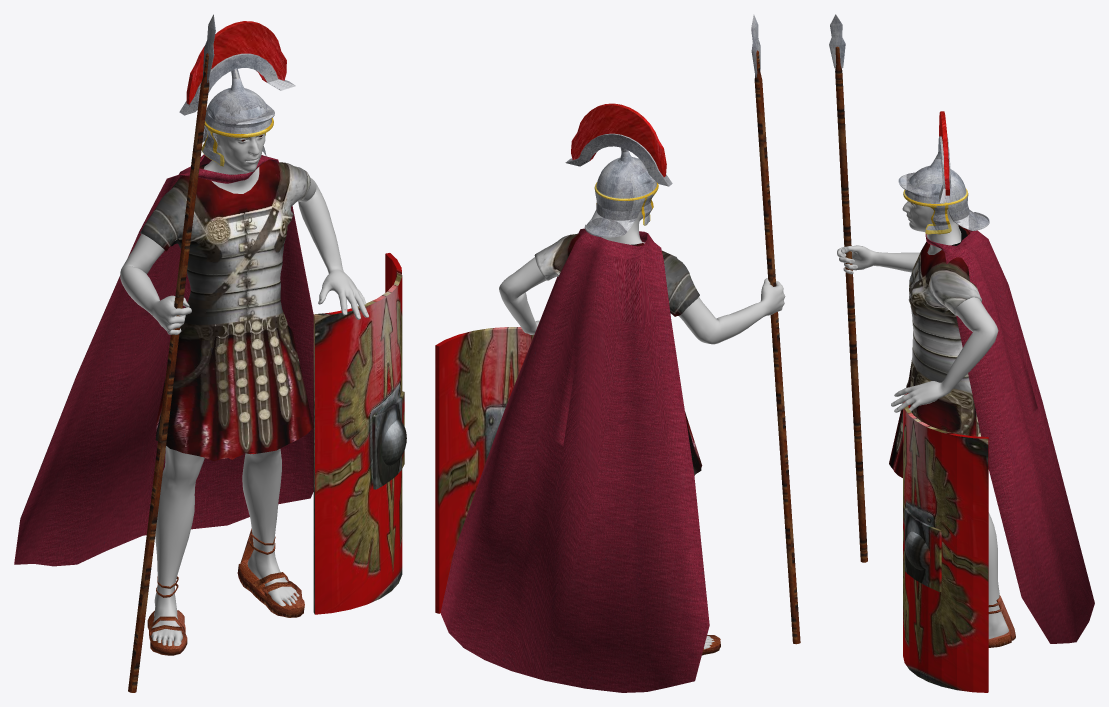
The model's file is soldato-romano.obj.
3 views of the same model, side by side, from view 1: azimuth 30°, elevation 25°; view 2: azimuth 150°, elevation 25°; view 3: azimuth 270°, elevation 25° (orthographic). The views are drawn at different scales.
Parts seen in each view (by area): view 1: Plane, soldato__romano-female_casualsuit02, Cylinder_001_Cylinder_002_Cylinder.001_Cylinder.002, soldato__romano-base, Cylinder_005_Cylinder.005, Cylinder, Sphere, Cylinder_004_Cylinder.004, Cylinder_003_Cylinder_001_Cylinder.003_Cylinder.001; view 2: Plane, Cylinder_001_Cylinder_002_Cylinder.001_Cylinder.002, soldato__romano-base, Cylinder_005_Cylinder.005, Cylinder, Sphere, soldato__romano-female_casualsuit02; view 3: Plane, Cylinder_001_Cylinder_002_Cylinder.001_Cylinder.002, soldato__romano-female_casualsuit02, soldato__romano-base, Cylinder_005_Cylinder.005, Sphere, Cylinder, Cylinder_004_Cylinder.004, Cone.
Part boxes in pixels (x1,y1,x2,y2): Plane: [14, 154, 313, 566]; soldato__romano-female_casualsuit02: [140, 159, 313, 461]; Cylinder_001_Cylinder_002_Cylinder.001_Cylinder.002: [313, 253, 406, 614]; soldato__romano-base: [120, 133, 368, 646]; Cylinder_005_Cylinder.005: [128, 53, 209, 692]; Cylinder: [179, 21, 295, 115]; Sphere: [201, 68, 274, 166]; Cylinder_004_Cylinder.004: [237, 528, 304, 617]; Cylinder_003_Cylinder_001_Cylinder.003_Cylinder.001: [147, 576, 187, 655]; Plane: [440, 228, 709, 692]; Cylinder_001_Cylinder_002_Cylinder.001_Cylinder.002: [435, 327, 533, 613]; soldato__romano-base: [499, 208, 785, 649]; Cylinder_005_Cylinder.005: [754, 50, 800, 644]; Cylinder: [565, 103, 672, 186]; Sphere: [584, 147, 658, 237]; soldato__romano-female_casualsuit02: [534, 233, 702, 475]; Plane: [925, 229, 1094, 643]; Cylinder_001_Cylinder_002_Cylinder.001_Cylinder.002: [903, 393, 988, 692]; soldato__romano-female_casualsuit02: [889, 225, 981, 477]; soldato__romano-base: [837, 201, 1008, 638]; Cylinder_005_Cylinder.005: [835, 46, 867, 562]; Sphere: [898, 150, 989, 234]; Cylinder: [938, 111, 951, 202]; Cylinder_004_Cylinder.004: [988, 595, 1015, 647]; Cone: [829, 14, 845, 68].
Size of the model in its own units: 1.17 by 2.26 by 0.9399.
